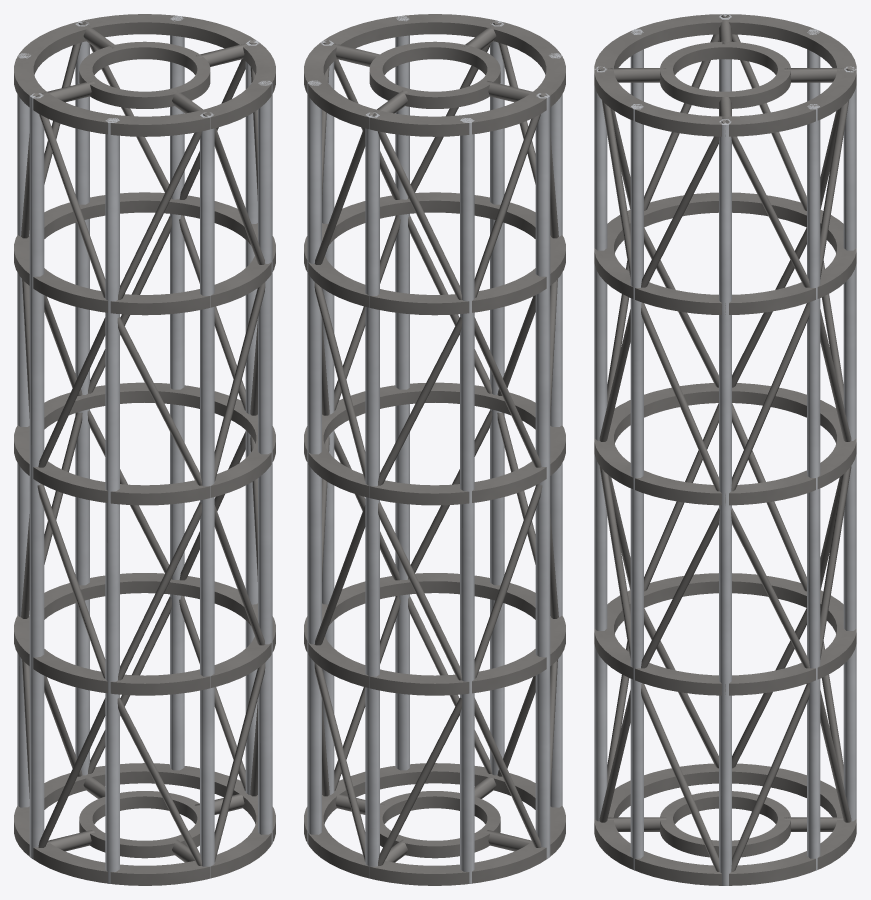
The model's file is struct01_lattice_truss_s_4.glb.
3 renders of one model, left to right at view 1: azimuth 30°, elevation 25°; view 2: azimuth 150°, elevation 25°; view 3: azimuth 270°, elevation 25°, orthographic.
Parts seen in each view (by area): view 1: longerons, ring_frames, diagonals, end_plates; view 2: longerons, ring_frames, diagonals, end_plates; view 3: ring_frames, longerons, diagonals, end_plates.
Part boxes in pixels (bbox=[...]): longerons: bbox=[17, 16, 272, 883]; ring_frames: bbox=[14, 14, 275, 885]; diagonals: bbox=[21, 21, 265, 865]; end_plates: bbox=[41, 26, 248, 862]; longerons: bbox=[307, 16, 562, 883]; ring_frames: bbox=[304, 14, 565, 885]; diagonals: bbox=[314, 21, 558, 865]; end_plates: bbox=[331, 26, 538, 862]; ring_frames: bbox=[594, 14, 856, 885]; longerons: bbox=[594, 14, 856, 885]; diagonals: bbox=[598, 15, 852, 871]; end_plates: bbox=[607, 19, 843, 857].
Size of the model in its own units: 1.25 by 4.02 by 1.25.
2 materials, 2 textured.
